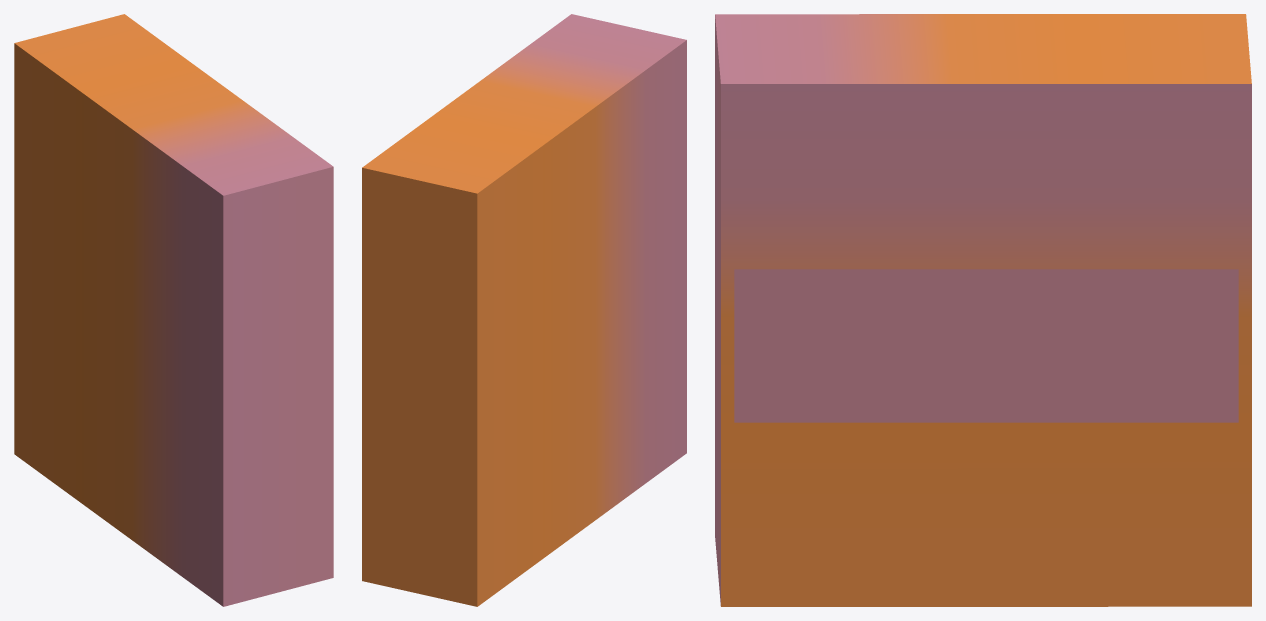
File: Laundry_washing_powders2.fbx
The picture shows the model from 3 angles, left to right: view 1: azimuth 30°, elevation 25°; view 2: azimuth 150°, elevation 25°; view 3: azimuth 270°, elevation 25°; orthographic projection. The views are drawn at different scales.
Parts seen in each view (by area): view 1: Laundry_washing_powders2; view 2: Laundry_washing_powders2; view 3: Laundry_washing_powders2.
Boxes of the visible parts, left/top/right/bottom form: Laundry_washing_powders2: left=14, top=14, right=333, bottom=606; Laundry_washing_powders2: left=362, top=14, right=686, bottom=606; Laundry_washing_powders2: left=715, top=14, right=1251, bottom=606.
Size of the model in its own units: 9.9 by 34.16 by 31.78.
